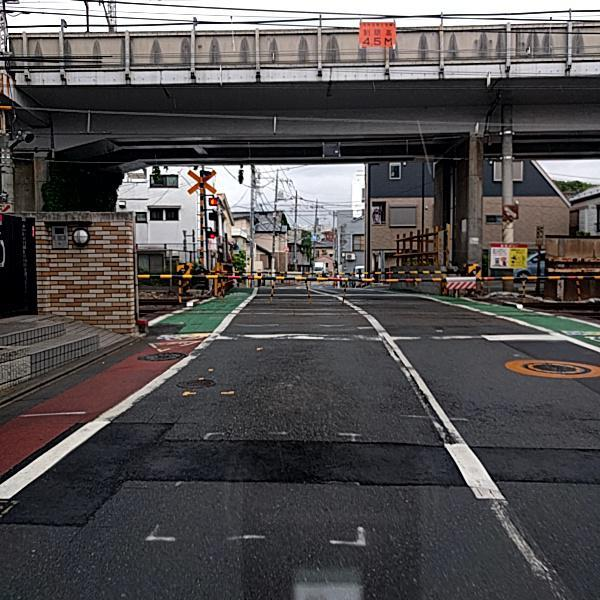D20: (461, 394, 598, 443)
D44: (375, 311, 548, 599)
D50: (524, 359, 582, 376), (133, 350, 182, 363), (179, 378, 214, 389), (179, 376, 215, 386)
